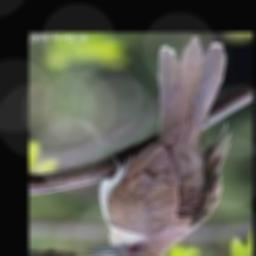Cuckoo: (87, 39, 232, 256)
